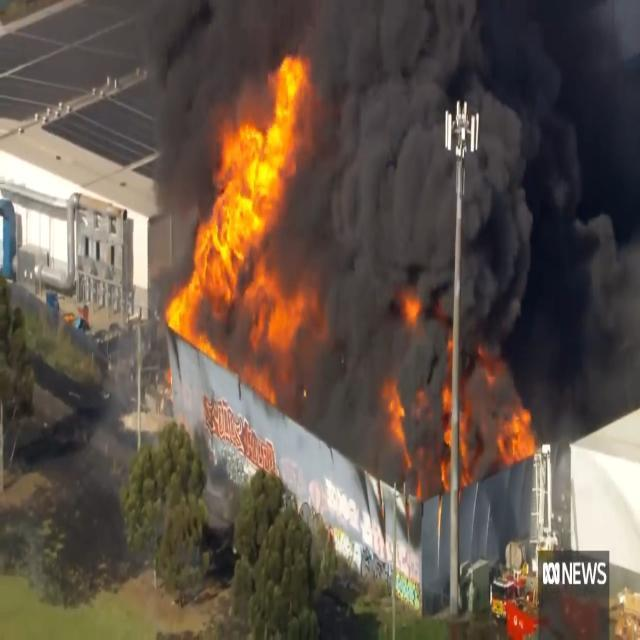fire: (166, 37, 322, 386), (376, 379, 424, 482), (442, 372, 476, 491), (490, 544, 531, 639), (496, 404, 536, 466), (396, 270, 428, 338)
